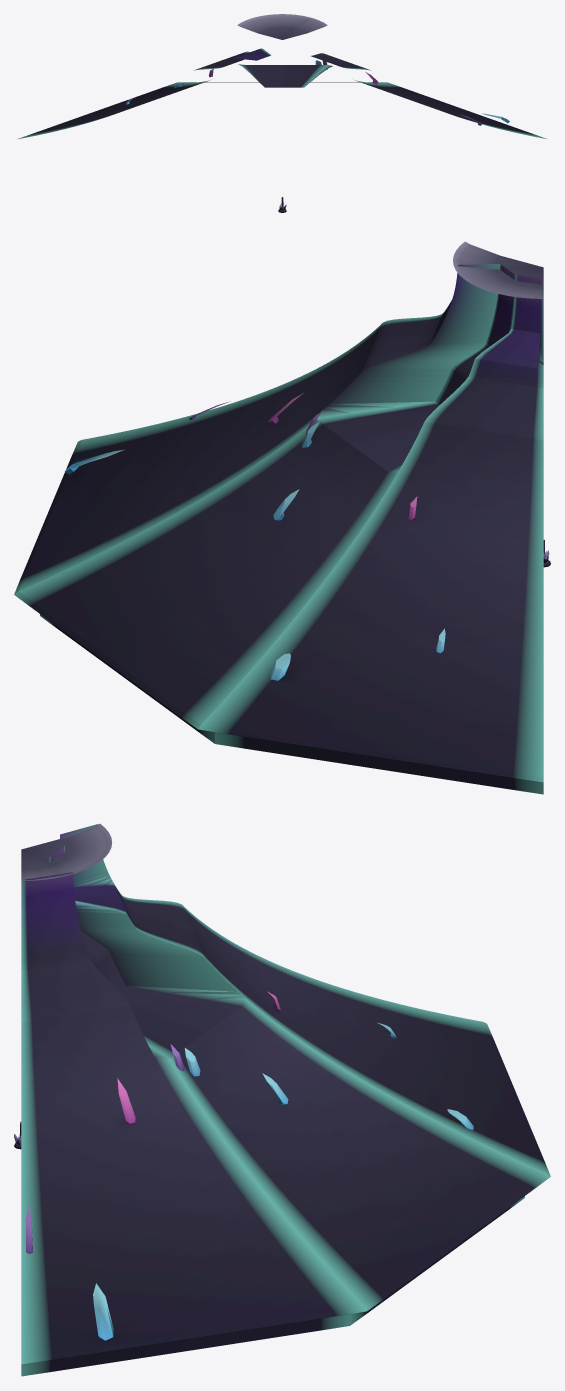
Rendered from caverns-s2-Dy1YcNhq.glb.
The picture shows the model from 3 angles, top to bottom: view 1: azimuth 30°, elevation 25°; view 2: azimuth 150°, elevation 25°; view 3: azimuth 270°, elevation 25°; orthographic projection. The views are drawn at different scales.
Parts seen in each view (by area): view 1: sc_landmark_0; view 2: sc_landmark_0; view 3: sc_landmark_0.
Boxes of the visible parts, <box> form: sc_landmark_0: <box>17,14,547,139</box>; sc_landmark_0: <box>14,241,543,794</box>; sc_landmark_0: <box>21,823,550,1376</box>.
Bounding box in the file's own units: 648 × 282 × 432.
